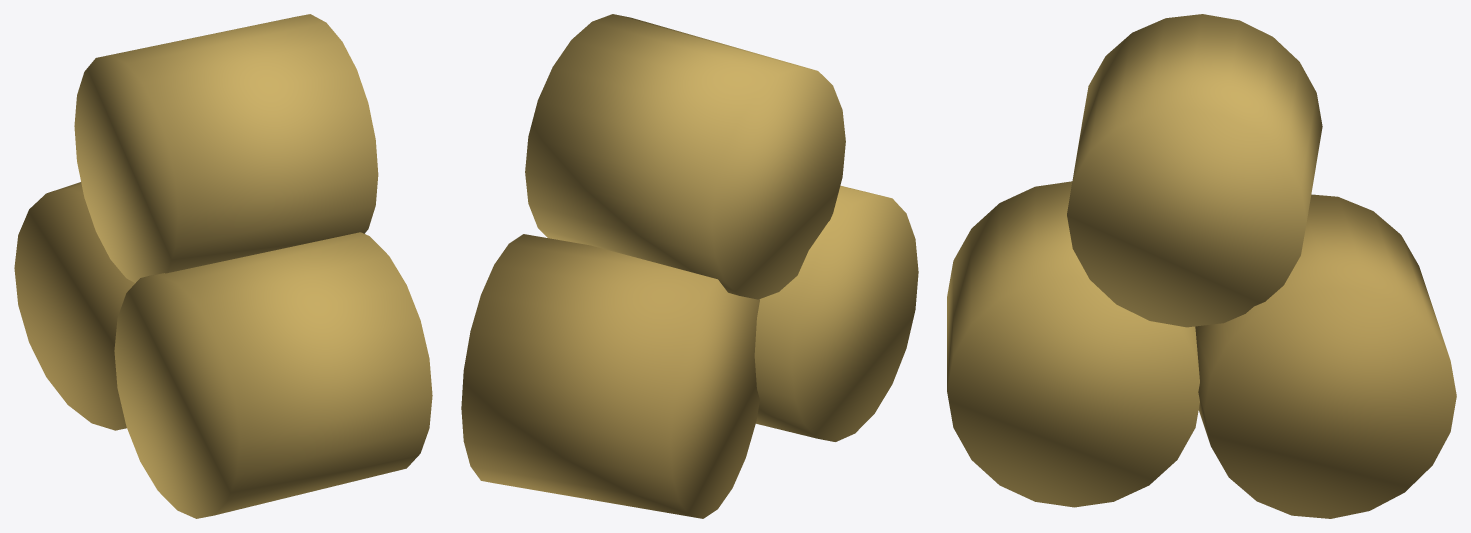
File: Haystack.fbx
3 views of the same model, side by side, from view 1: azimuth 30°, elevation 25°; view 2: azimuth 150°, elevation 25°; view 3: azimuth 270°, elevation 25° (orthographic).
Parts seen in each view (by area): view 1: Bale, Bale3, Bale2; view 2: Bale2, Bale3, Bale; view 3: Bale3, Bale2, Bale.
Boxes of the visible parts, x1,y1,x2,y2 form: Bale: (114, 232, 432, 518); Bale3: (74, 14, 378, 282); Bale2: (14, 182, 135, 430); Bale2: (461, 234, 759, 518); Bale3: (525, 14, 845, 299); Bale: (754, 185, 918, 441); Bale3: (1067, 14, 1322, 327); Bale2: (1195, 194, 1456, 518); Bale: (947, 181, 1199, 507).
Bounding box in the file's own units: 192 × 360 × 315.
